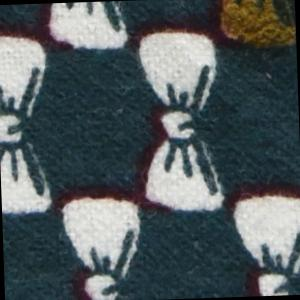Oil Stain: (210, 1, 297, 56)
